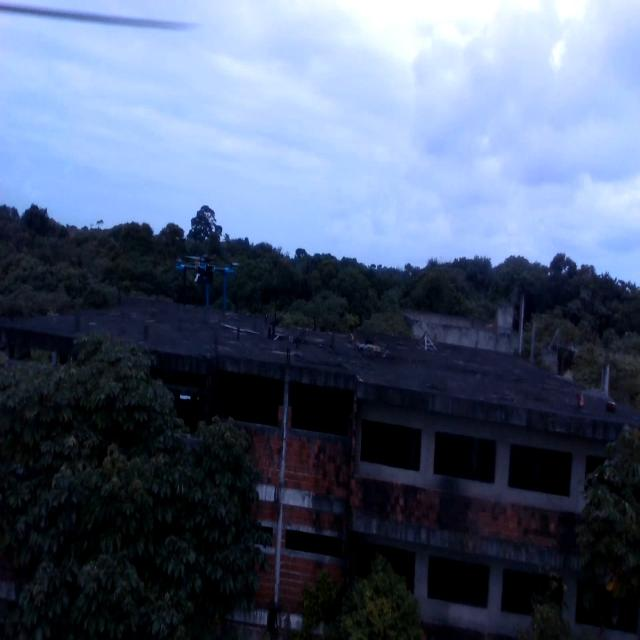-uav-: (164, 237, 248, 335)
